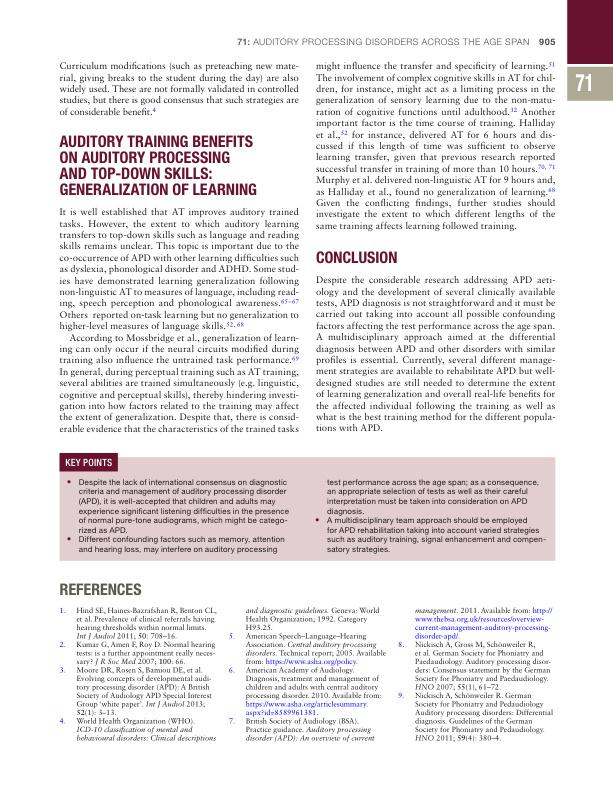caption: (64, 457, 113, 467)
header: (235, 36, 531, 46)
list: (57, 606, 217, 744), (226, 606, 387, 743), (396, 605, 555, 742), (314, 477, 547, 556), (65, 476, 290, 556)
section-heading: (58, 133, 258, 197), (314, 249, 399, 265), (59, 581, 142, 597)
text: (58, 206, 301, 435), (315, 59, 557, 232), (314, 275, 557, 432), (58, 61, 300, 117)
